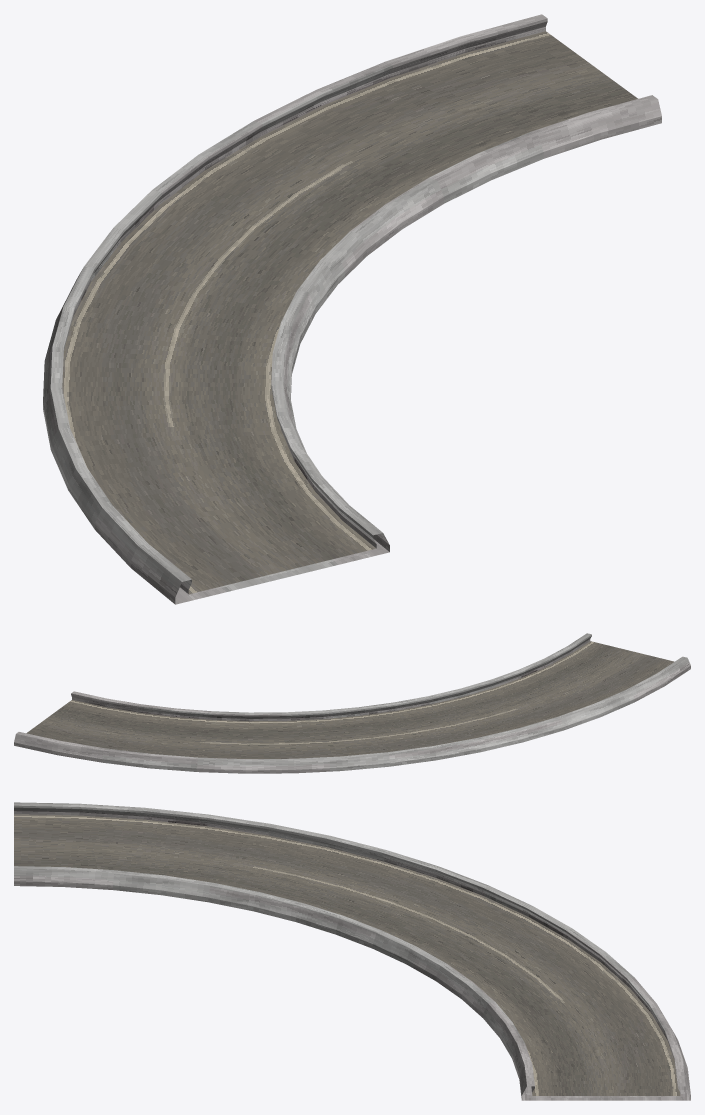
File: turn-right4x4.glb
3 renders of one model, top to bottom at view 1: azimuth 30°, elevation 25°; view 2: azimuth 150°, elevation 25°; view 3: azimuth 270°, elevation 25°, orthographic. The views are drawn at different scales.
Visible parts, largest first — view 1: road-Turn-Flat-Flat-Even-Right-Size4; view 2: road-Turn-Flat-Flat-Even-Right-Size4; view 3: road-Turn-Flat-Flat-Even-Right-Size4.
Boxes of the visible parts, left/top/right/bottom form: road-Turn-Flat-Flat-Even-Right-Size4: left=43, top=14, right=661, bottom=604; road-Turn-Flat-Flat-Even-Right-Size4: left=14, top=633, right=690, bottom=773; road-Turn-Flat-Flat-Even-Right-Size4: left=14, top=802, right=690, bottom=1100.
Size of the model in its own units: 4 by 0.0938 by 4.
Materials: 2 (2 with a texture image).
